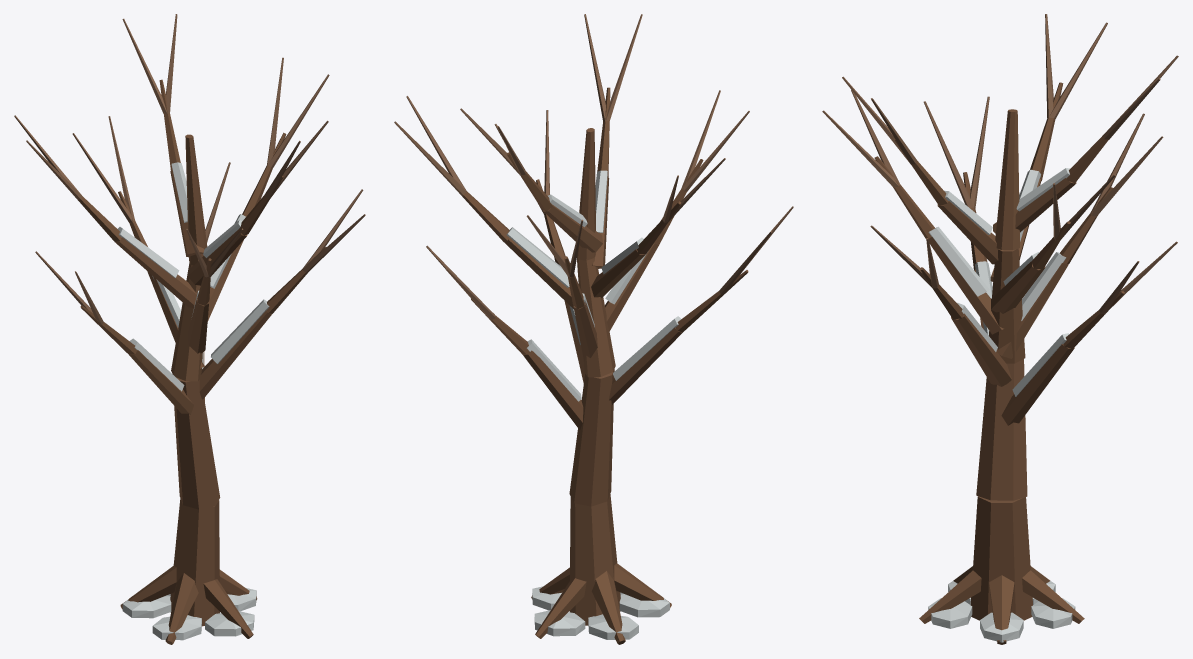
File: tree_detailed_winter.glb
3 renders of one model, left to right at view 1: azimuth 30°, elevation 25°; view 2: azimuth 150°, elevation 25°; view 3: azimuth 270°, elevation 25°, orthographic. The views are drawn at different scales.
Parts seen in each view (by area): view 1: branches, snow; view 2: branches, snow; view 3: branches, snow.
Boxes of the visible parts, x1=… form: branches: x1=14, y1=14, x2=365, y2=644; snow: x1=118, y1=162, x2=269, y2=640; branches: x1=394, y1=14, x2=793, y2=644; snow: x1=506, y1=170, x2=681, y2=639; branches: x1=822, y1=14, x2=1178, y2=644; snow: x1=928, y1=168, x2=1075, y2=642.
Size of the model in its own units: 0.8471 by 1.33 by 0.7616.
